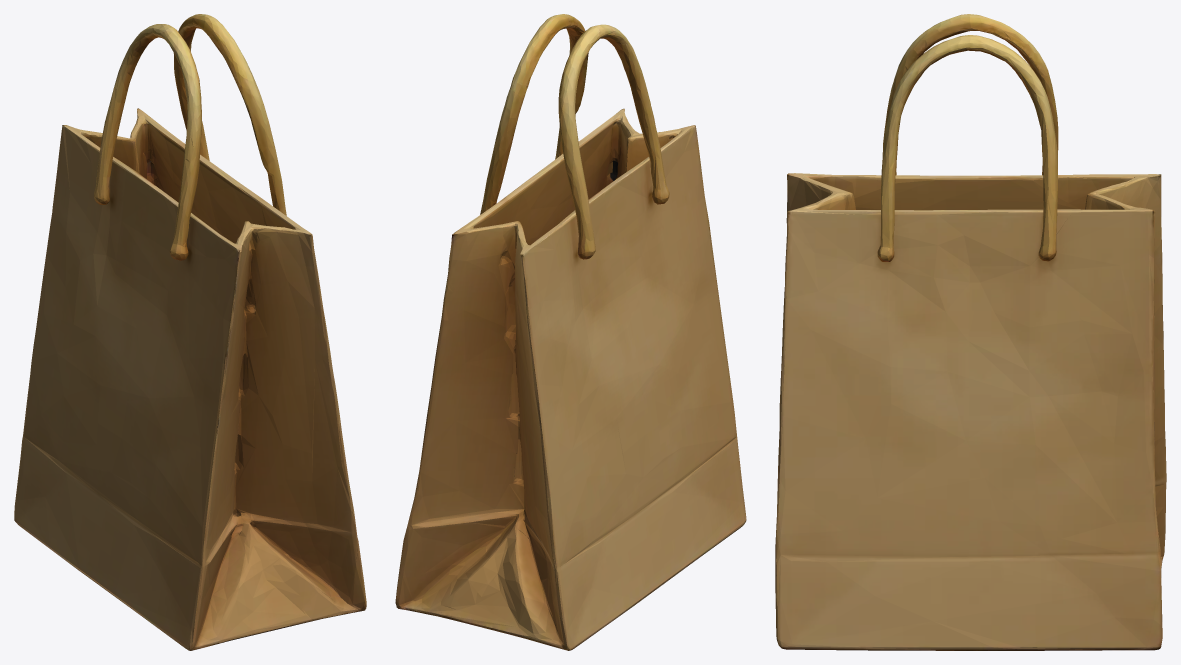
The picture shows the model from 3 angles, left to right: view 1: azimuth 30°, elevation 25°; view 2: azimuth 150°, elevation 25°; view 3: azimuth 270°, elevation 25°; orthographic projection. The views are drawn at different scales.
Parts seen in each view (by area): view 1: geometry_0; view 2: geometry_0; view 3: geometry_0.
Boxes of the visible parts, x1,y1,x2,y2 form: geometry_0: (14,14,366,650); geometry_0: (395,14,746,650); geometry_0: (775,14,1166,650).
Bounding box in the file's own units: 0.3418 × 0.9999 × 0.611.
1 material, 1 textured.
